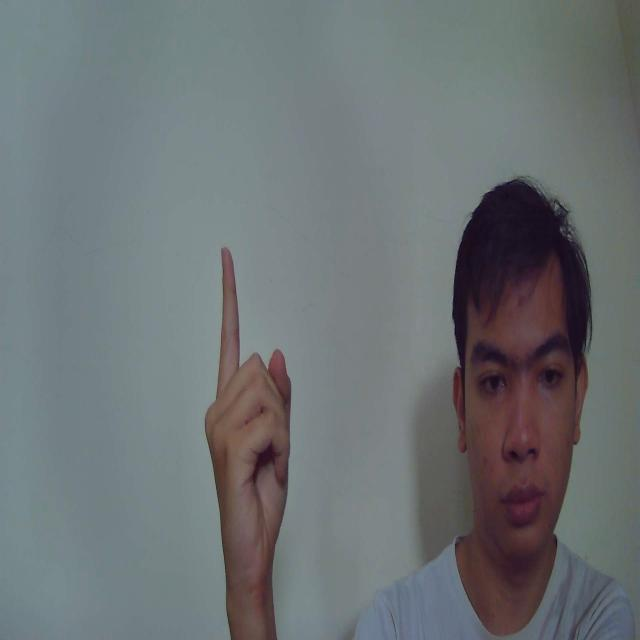D: (205, 246, 294, 579)
